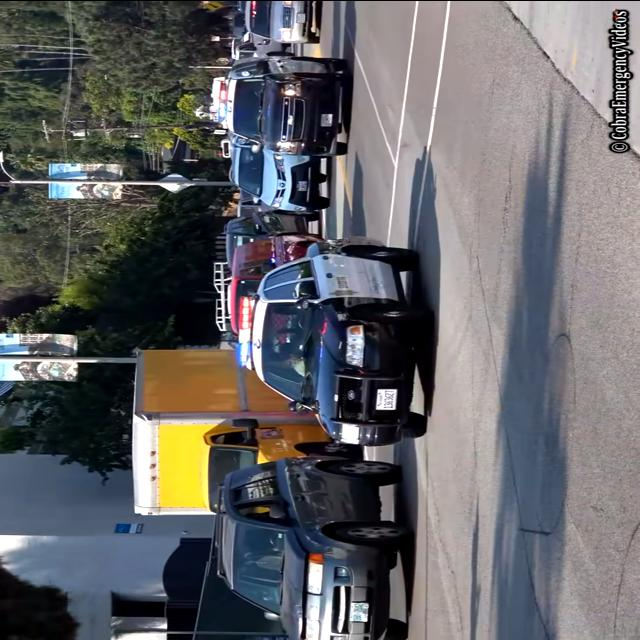emergency-vehicles: (231, 235, 438, 457), (193, 40, 370, 161)
